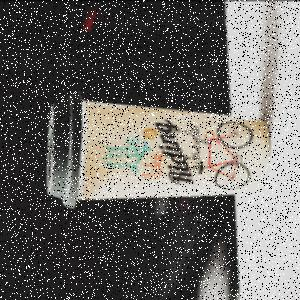Cup: (47, 90, 271, 210)
